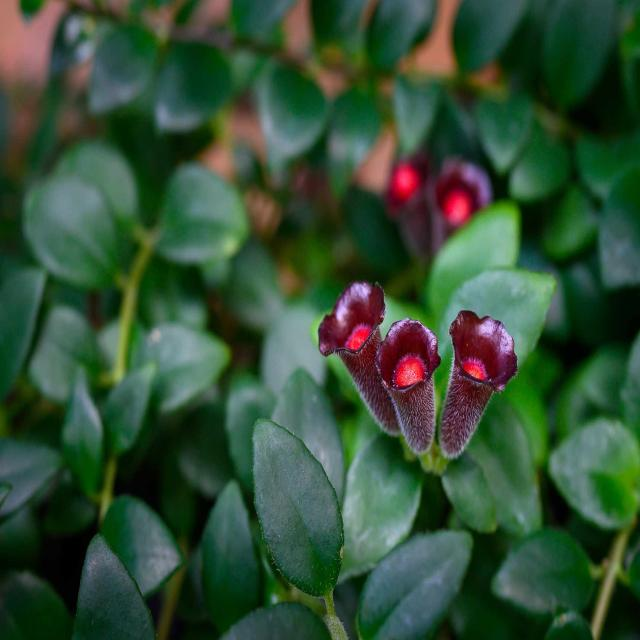Lipstick-Plant: (312, 252, 514, 528), (358, 127, 507, 281)
